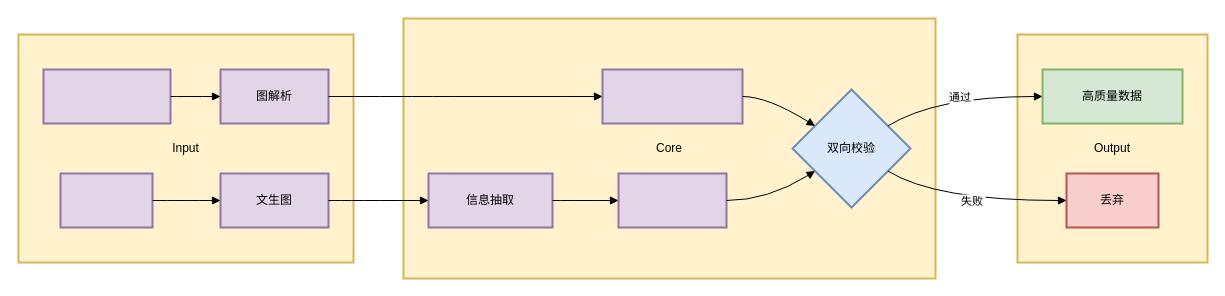
The diagram is 1225 pixels wide and 296 high, and some of its shapes have lost their labels. Here are the shapes that lost their labels. From the top down, the centre of each, then its label:
At (106,96): "DOT/XML".
At (672,96): "图生文 V2T".
At (106,200): "文本".
At (672,200): "图重构".
